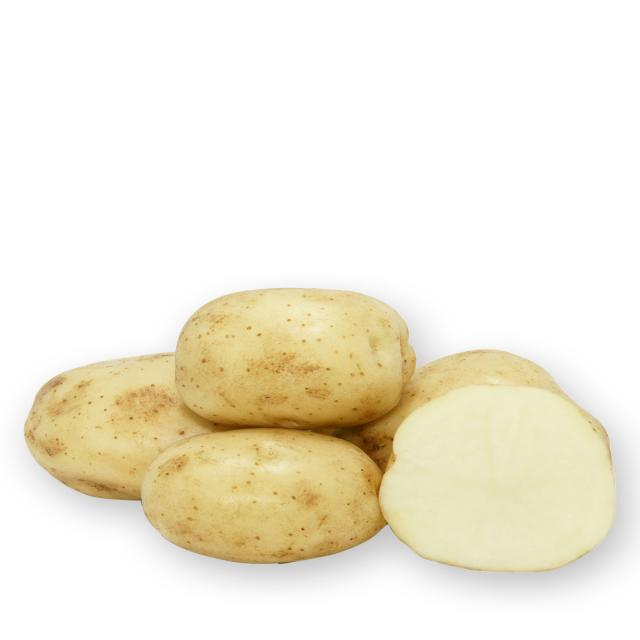Potato: (131, 266, 423, 436)
